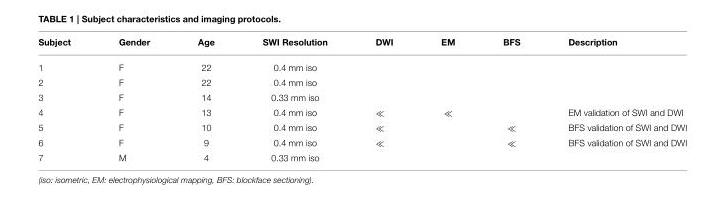table: (37, 37, 686, 162)
table column: (543, 37, 686, 162), (237, 37, 350, 162), (93, 37, 173, 162), (350, 37, 416, 162), (478, 37, 543, 162), (173, 37, 237, 162), (416, 37, 478, 162), (37, 37, 93, 162)
table column header: (37, 37, 686, 54)
table row: (37, 54, 686, 74), (37, 37, 686, 54), (37, 104, 686, 120), (37, 74, 686, 89), (37, 89, 686, 104), (37, 120, 686, 135), (37, 135, 686, 150), (37, 150, 686, 162)
